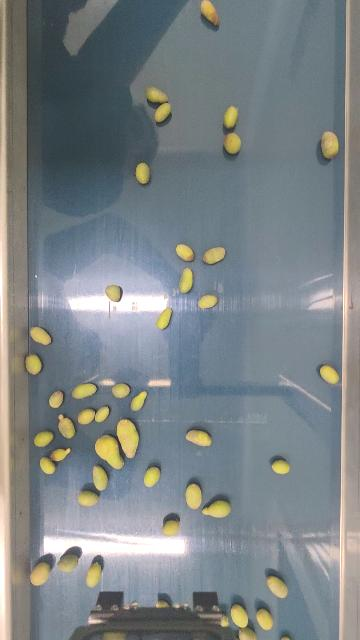Baby Potato: (94, 433, 125, 471), (115, 418, 140, 458), (203, 498, 232, 520), (320, 130, 340, 160), (199, 0, 222, 26), (266, 574, 289, 599), (29, 561, 51, 587), (185, 428, 213, 448), (145, 84, 171, 105), (230, 603, 251, 628), (57, 552, 82, 573), (185, 482, 203, 511), (91, 463, 109, 491), (57, 414, 77, 439), (85, 562, 103, 589), (203, 245, 226, 266), (29, 325, 52, 346), (153, 100, 173, 124), (178, 267, 195, 295), (223, 130, 242, 155), (222, 104, 240, 130), (71, 383, 97, 400), (320, 363, 340, 385), (256, 607, 274, 631), (25, 352, 43, 376), (155, 306, 173, 330), (135, 161, 152, 186), (143, 465, 161, 488), (175, 242, 195, 262), (33, 429, 54, 448), (77, 489, 99, 507), (130, 389, 147, 412), (197, 293, 219, 310), (270, 458, 291, 475), (162, 518, 180, 537), (77, 407, 96, 425), (39, 455, 56, 475), (105, 283, 122, 303), (50, 446, 71, 462), (111, 382, 130, 399), (48, 390, 64, 409), (237, 626, 258, 640), (95, 405, 110, 423), (279, 635, 295, 640)
